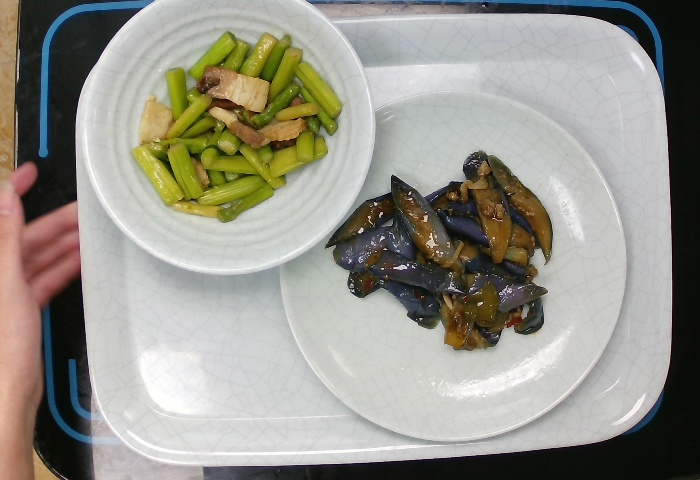JYsf-Da_Yuan_Pan: (277, 88, 629, 442)
JYsf-Xiao_Tang_Wan: (81, 1, 376, 275)
